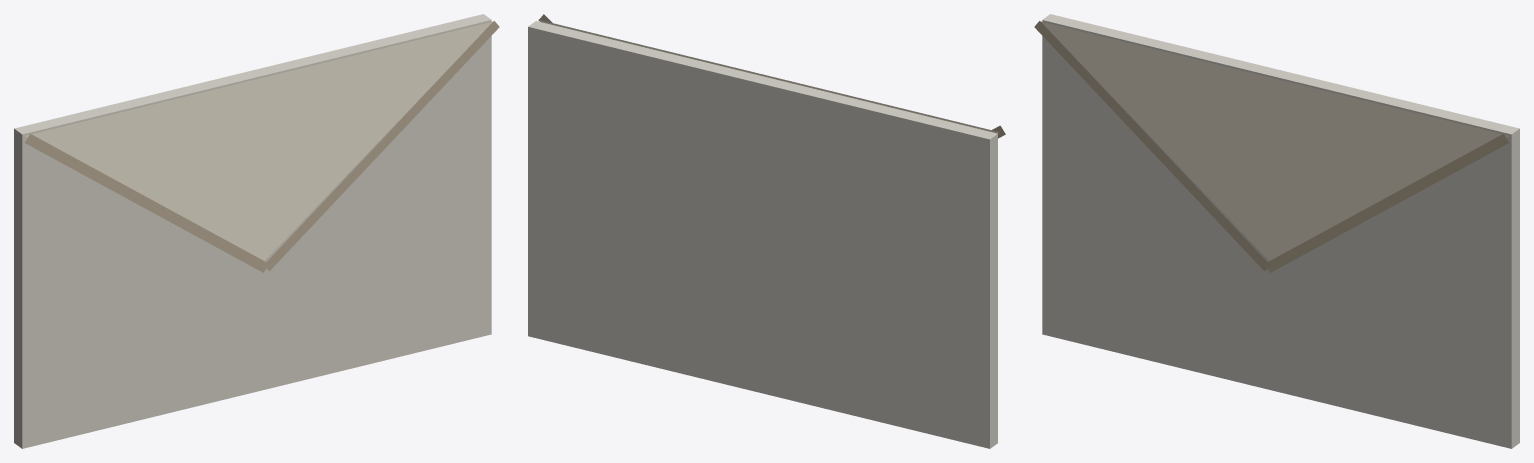
The model's file is board_envelope.glb.
3 views of the same model, side by side, from view 1: azimuth 30°, elevation 25°; view 2: azimuth 150°, elevation 25°; view 3: azimuth 330°, elevation 25° (orthographic).
Parts seen in each view (by area): view 1: board_envelope; view 2: board_envelope; view 3: board_envelope.
Part boxes in pixels (<box>): board_envelope: <box>14,14,499,448</box>; board_envelope: <box>528,14,1005,448</box>; board_envelope: <box>1034,14,1519,448</box>.
Bounding box in the file's own units: 1.01 × 0.648 × 0.0648.
